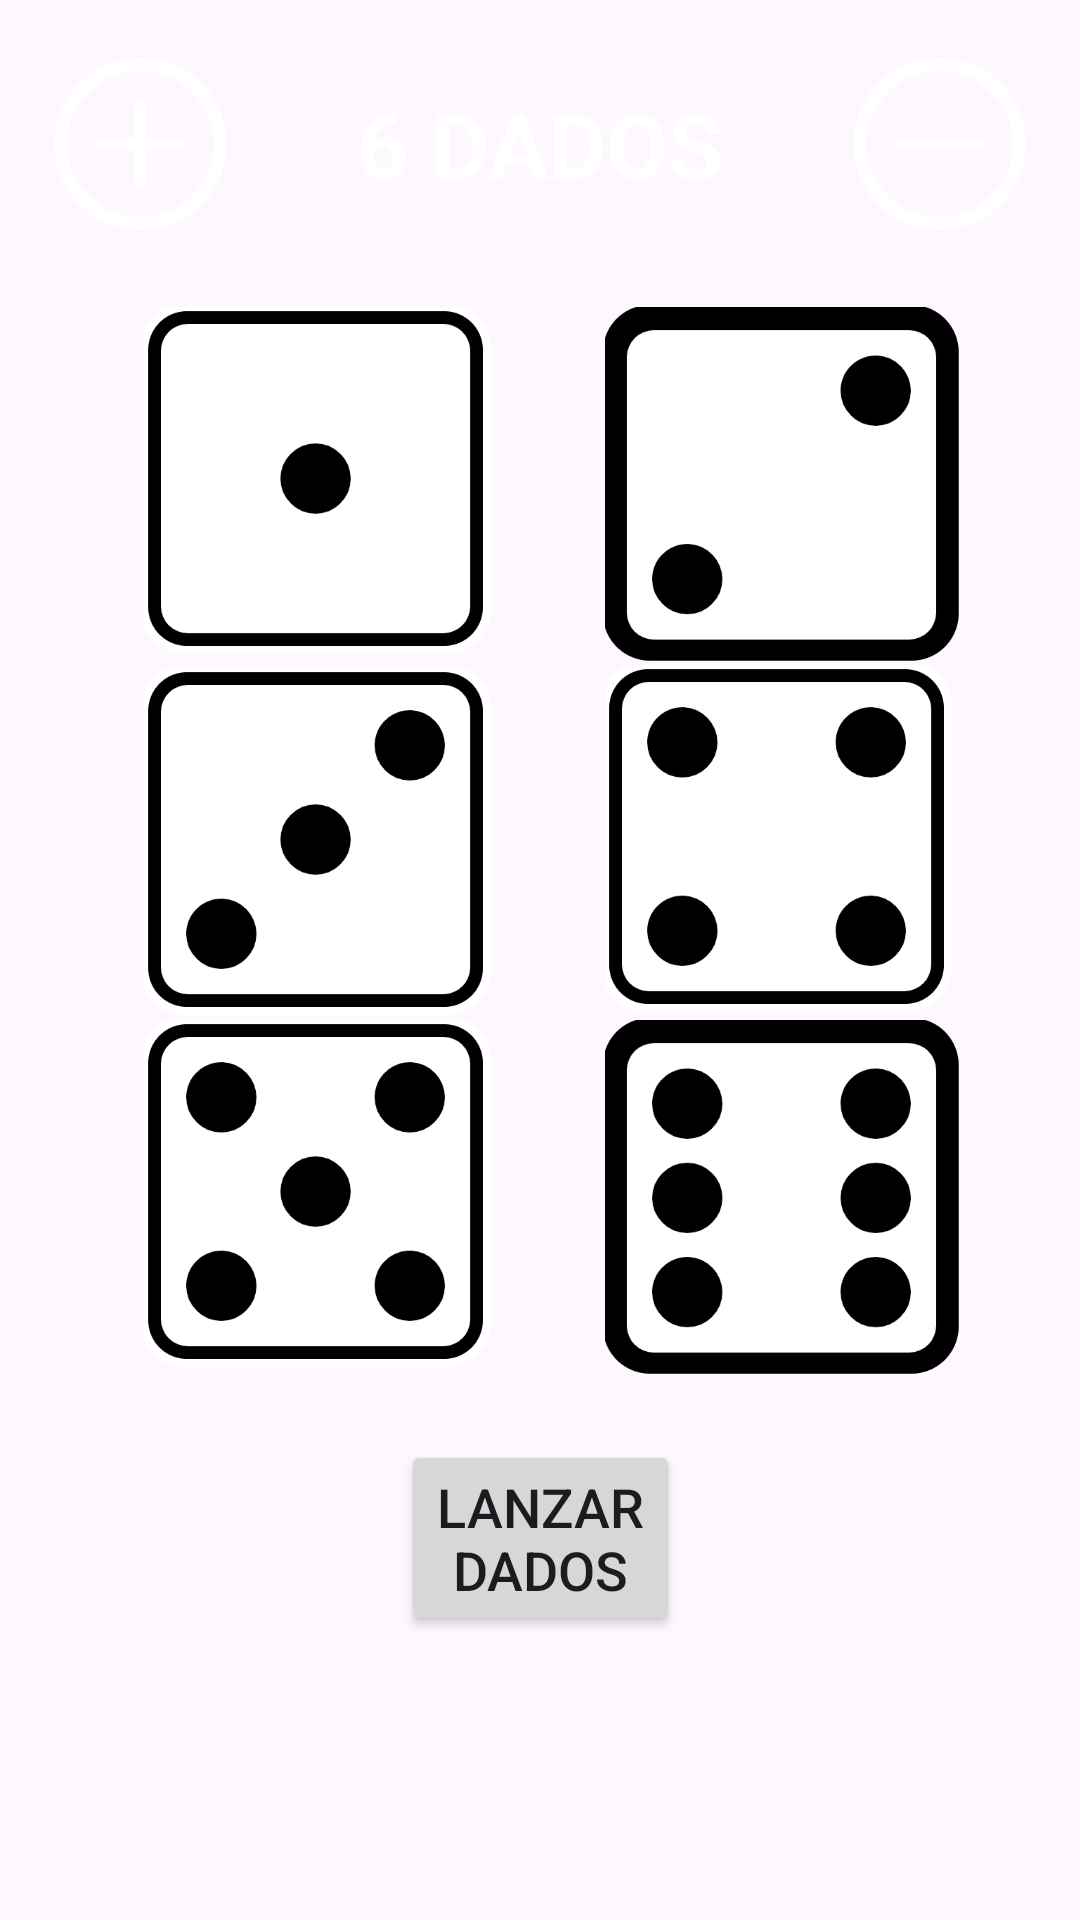

Where icons sit on this 1080*1920 app screen, as detection(x1, y1, x2, y2):
dice five: detection(148, 1024, 483, 1359)
dice four: detection(605, 665, 952, 1025)
dice one: detection(148, 311, 483, 646)
dice six: detection(605, 1020, 959, 1374)
dice three: detection(148, 672, 483, 1007)
dice two: detection(605, 307, 959, 661)
